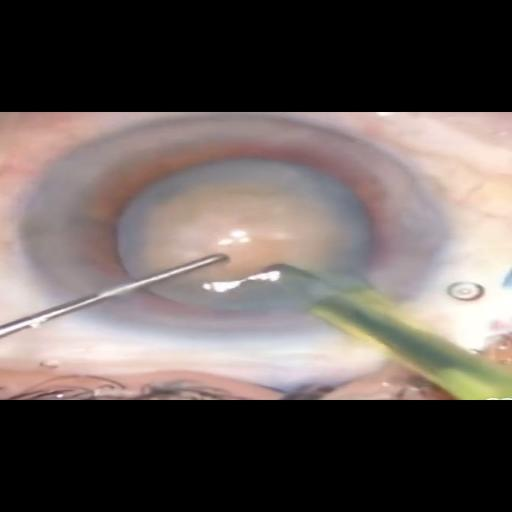catarata: (116, 156, 378, 321)
cornea: (17, 127, 452, 340)
pupil: (77, 142, 396, 325)
